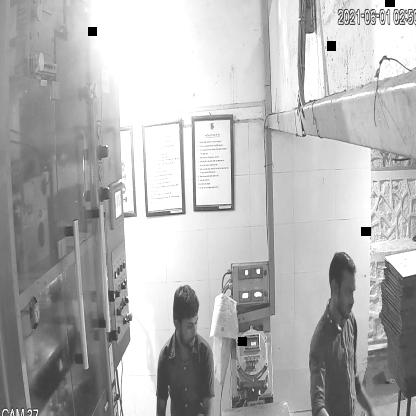no_goggles: (323, 273, 362, 305), (170, 310, 204, 336)
